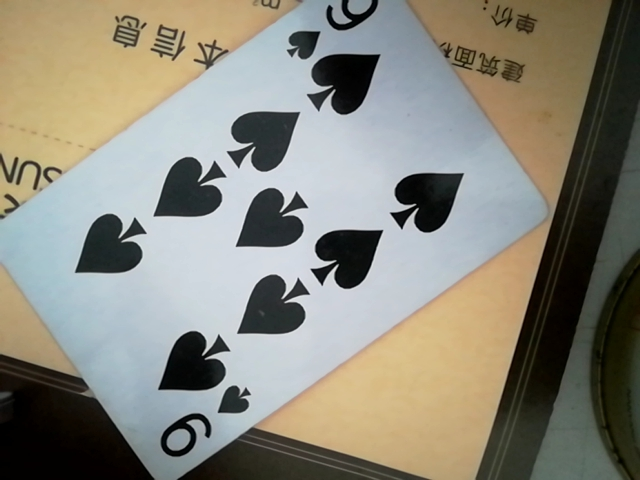ht 9: (2, 5, 559, 477)
